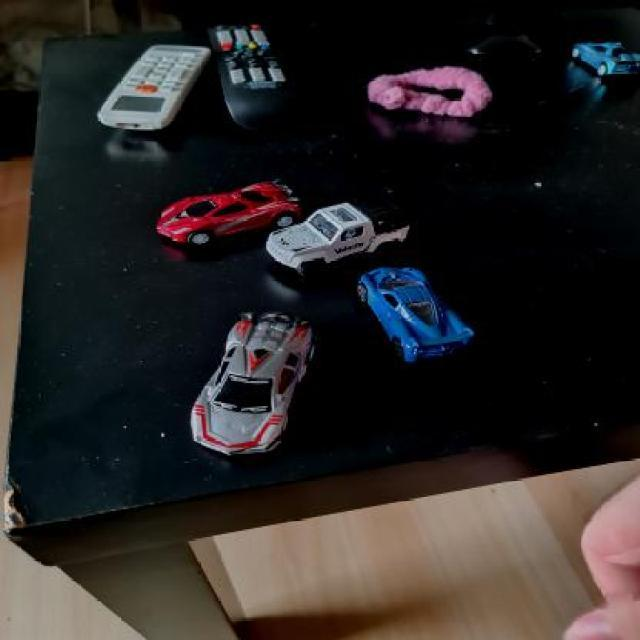car: (172, 306, 326, 469), (351, 264, 484, 368), (259, 196, 418, 276), (149, 174, 306, 248), (567, 38, 640, 78)
